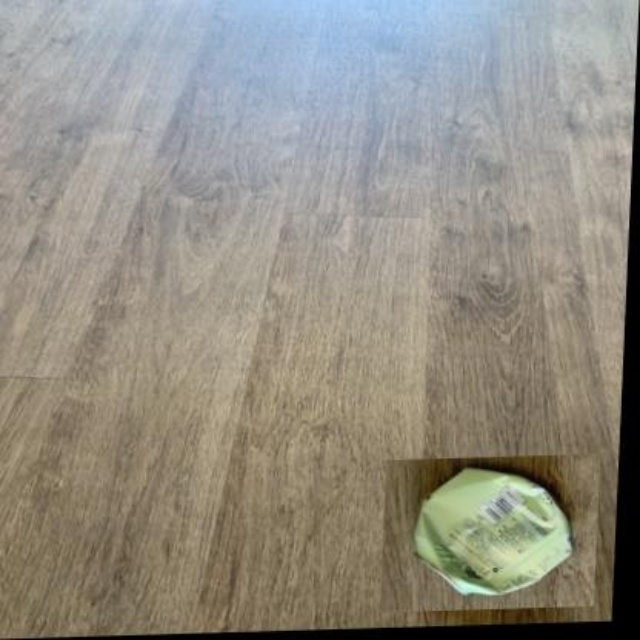trash: (414, 468, 571, 594)
